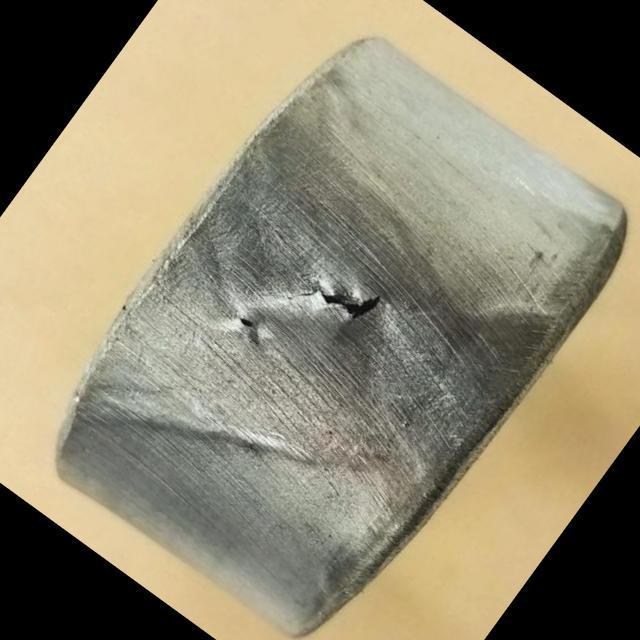defect: (282, 284, 391, 325)
